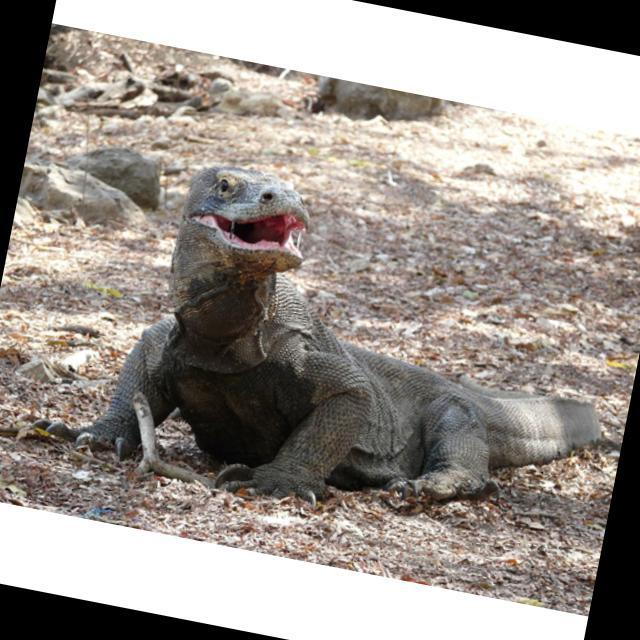KomodoDragon: (19, 138, 640, 563)
